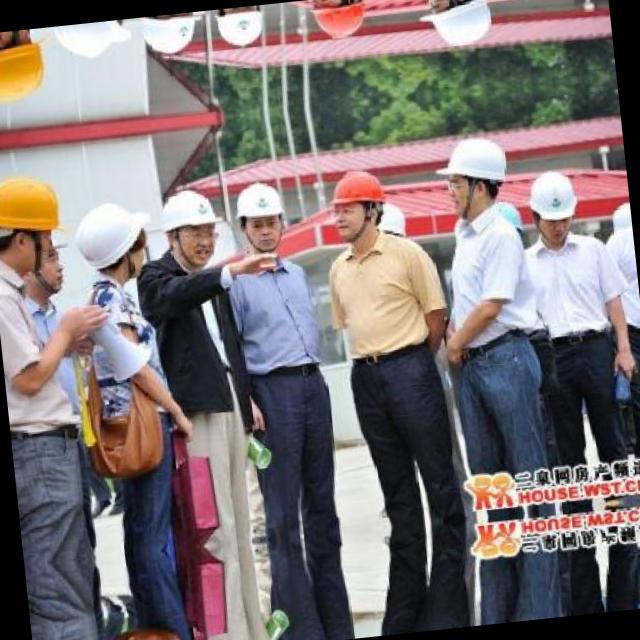helmet: (0, 163, 68, 279), (65, 198, 148, 292), (440, 125, 516, 218), (150, 184, 222, 268), (230, 172, 292, 254), (326, 163, 392, 240), (525, 163, 582, 245), (0, 27, 51, 111), (424, 0, 498, 54), (46, 19, 125, 61), (132, 11, 202, 58), (212, 3, 272, 52), (306, 0, 372, 42)
